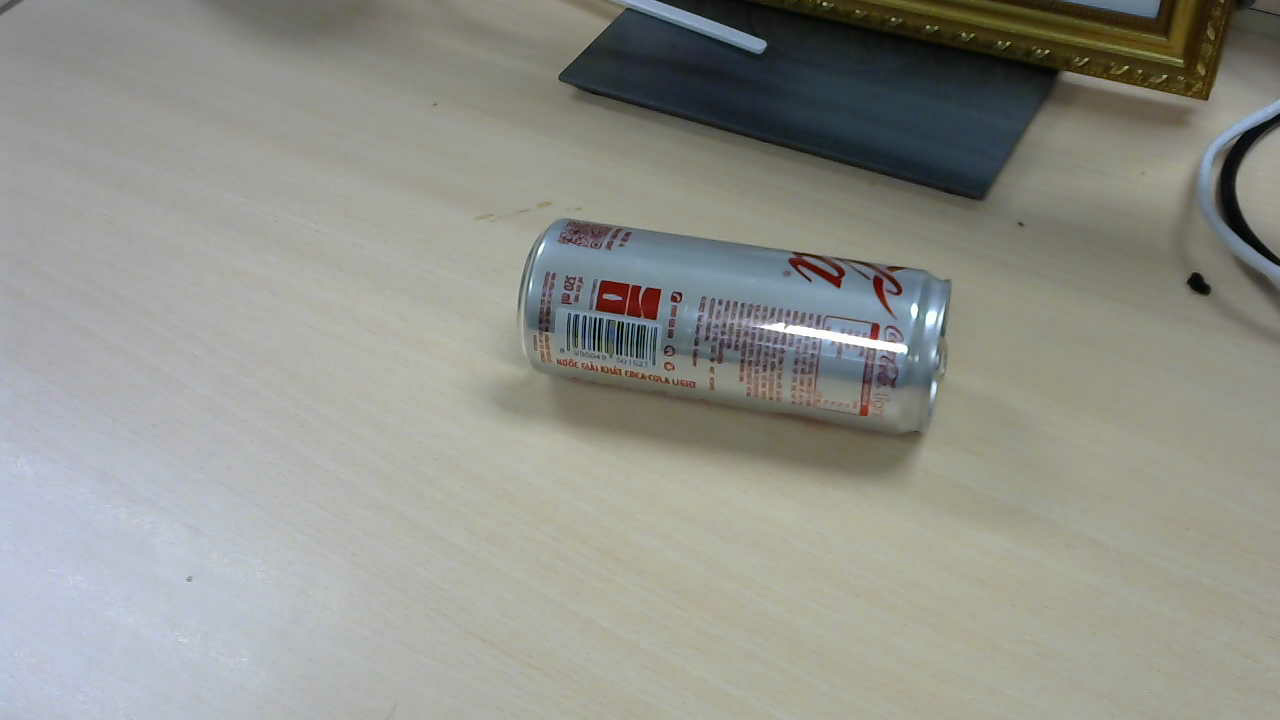Coca_Cola: (519, 221, 957, 448)
